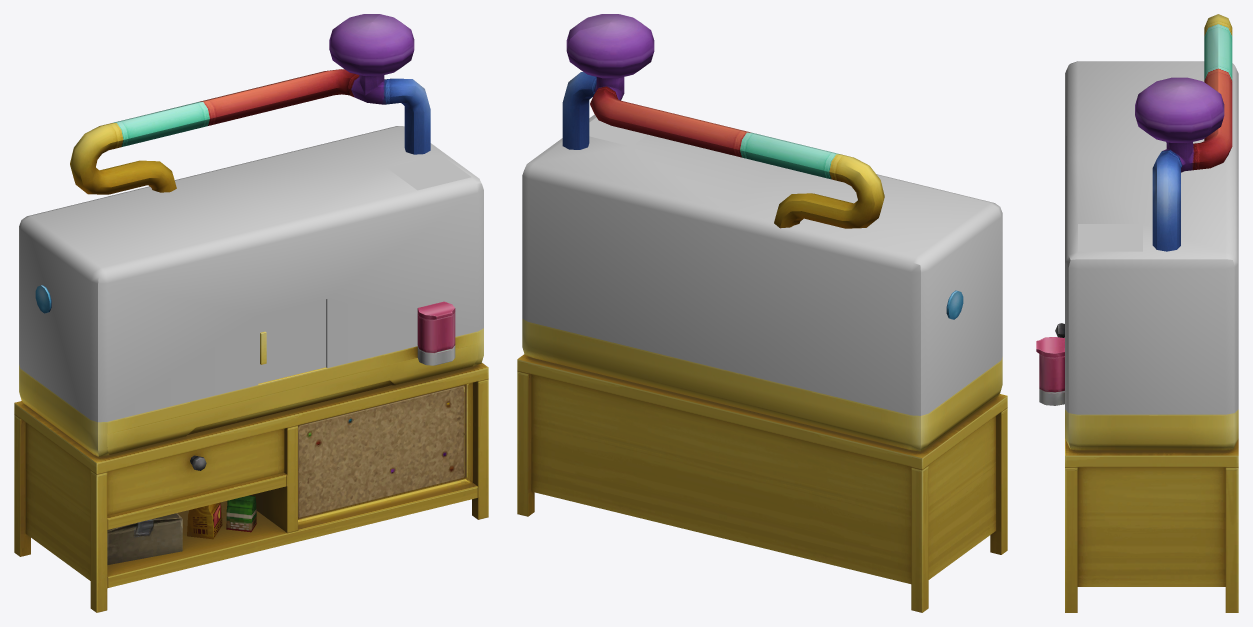
File: Jaula_textura.fbx
3 views of the same model, side by side, from view 1: azimuth 30°, elevation 25°; view 2: azimuth 150°, elevation 25°; view 3: azimuth 270°, elevation 25° (orthographic). The views are drawn at different scales.
Parts seen in each view (by area): view 1: s4studio_mesh_4, s4studio_mesh_2, s4studio_mesh_6; view 2: s4studio_mesh_4, s4studio_mesh_2, s4studio_mesh_6; view 3: s4studio_mesh_4, s4studio_mesh_2, s4studio_mesh_6.
Part boxes in pixels (<box>): s4studio_mesh_4: <box>19,126,483,422</box>; s4studio_mesh_2: <box>14,285,488,612</box>; s4studio_mesh_6: <box>70,14,455,319</box>; s4studio_mesh_4: <box>522,114,1002,415</box>; s4studio_mesh_2: <box>517,290,1007,612</box>; s4studio_mesh_6: <box>562,14,884,228</box>; s4studio_mesh_4: <box>1065,61,1238,414</box>; s4studio_mesh_2: <box>1039,323,1238,612</box>; s4studio_mesh_6: <box>1036,14,1232,357</box>.
Bounding box in the file's own units: 186 × 212 × 78.6.
Materials: 4 (3 with a texture image).
